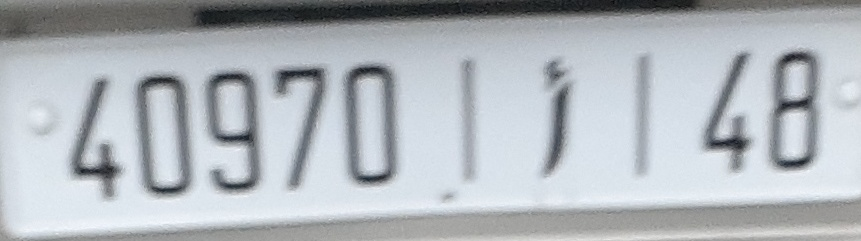0: (133, 71, 195, 201), (341, 59, 401, 187)
4: (69, 74, 126, 202), (707, 48, 756, 175)
7: (271, 63, 329, 193)
8: (767, 46, 820, 173)
9: (202, 70, 262, 196)
a: (533, 52, 575, 180)
